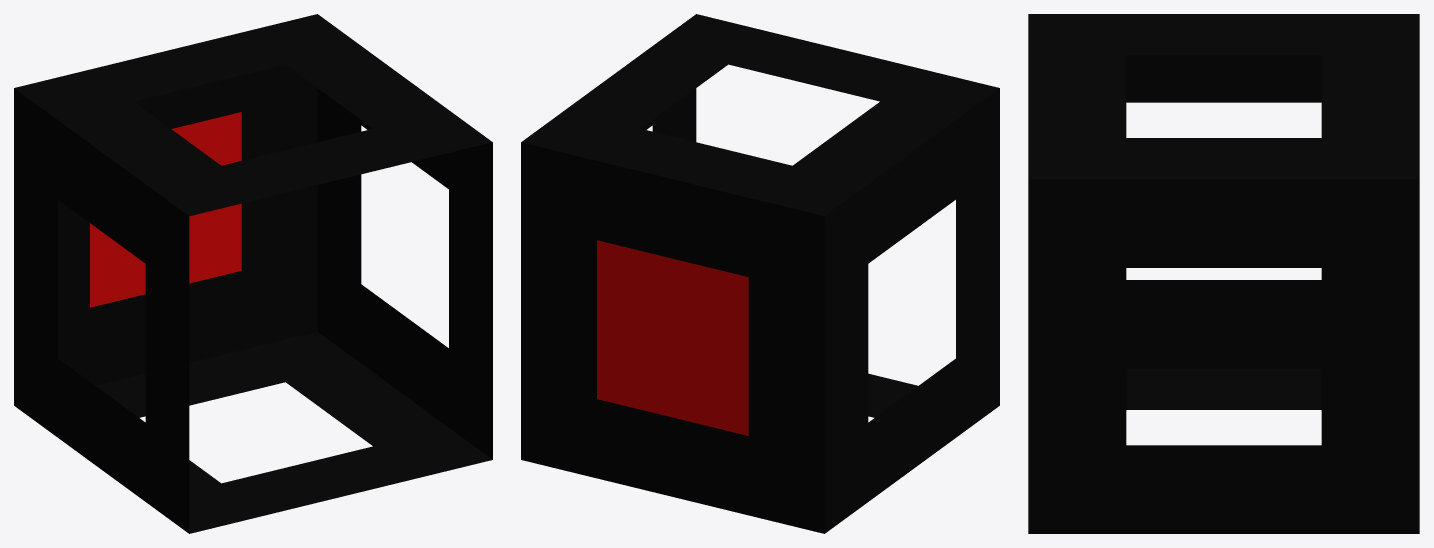
File: MRTK_PressableButton_NegativeZFace.fbx
3 renders of one model, left to right at view 1: azimuth 30°, elevation 25°; view 2: azimuth 150°, elevation 25°; view 3: azimuth 270°, elevation 25°, orthographic. The views are drawn at different scales.
Visible parts, largest first — view 1: boundingbox; view 2: boundingbox; view 3: boundingbox.
Part boxes in pixels (bbox=[...]): boundingbox: bbox=[14, 14, 492, 533]; boundingbox: bbox=[521, 14, 999, 533]; boundingbox: bbox=[1028, 14, 1419, 533].
Bounding box in the file's own units: 1 × 1 × 1.
